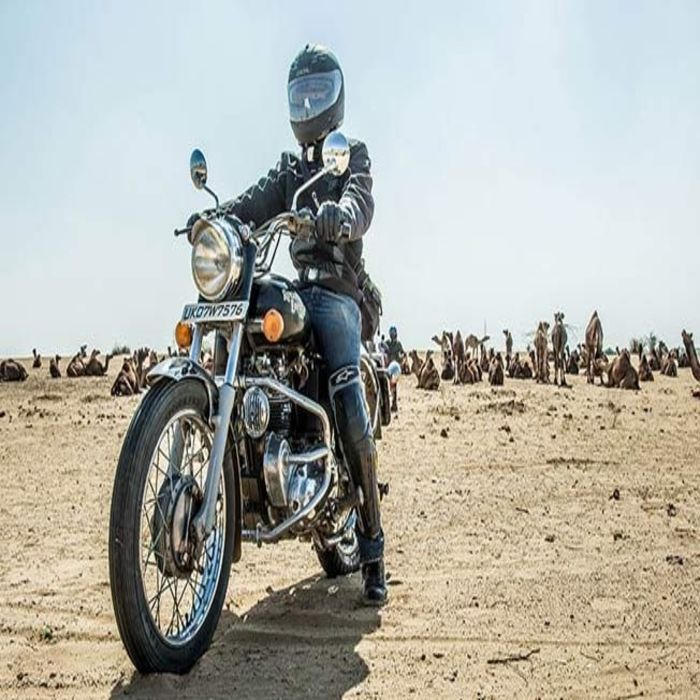h: (285, 42, 346, 145)
n: (181, 300, 251, 325)
